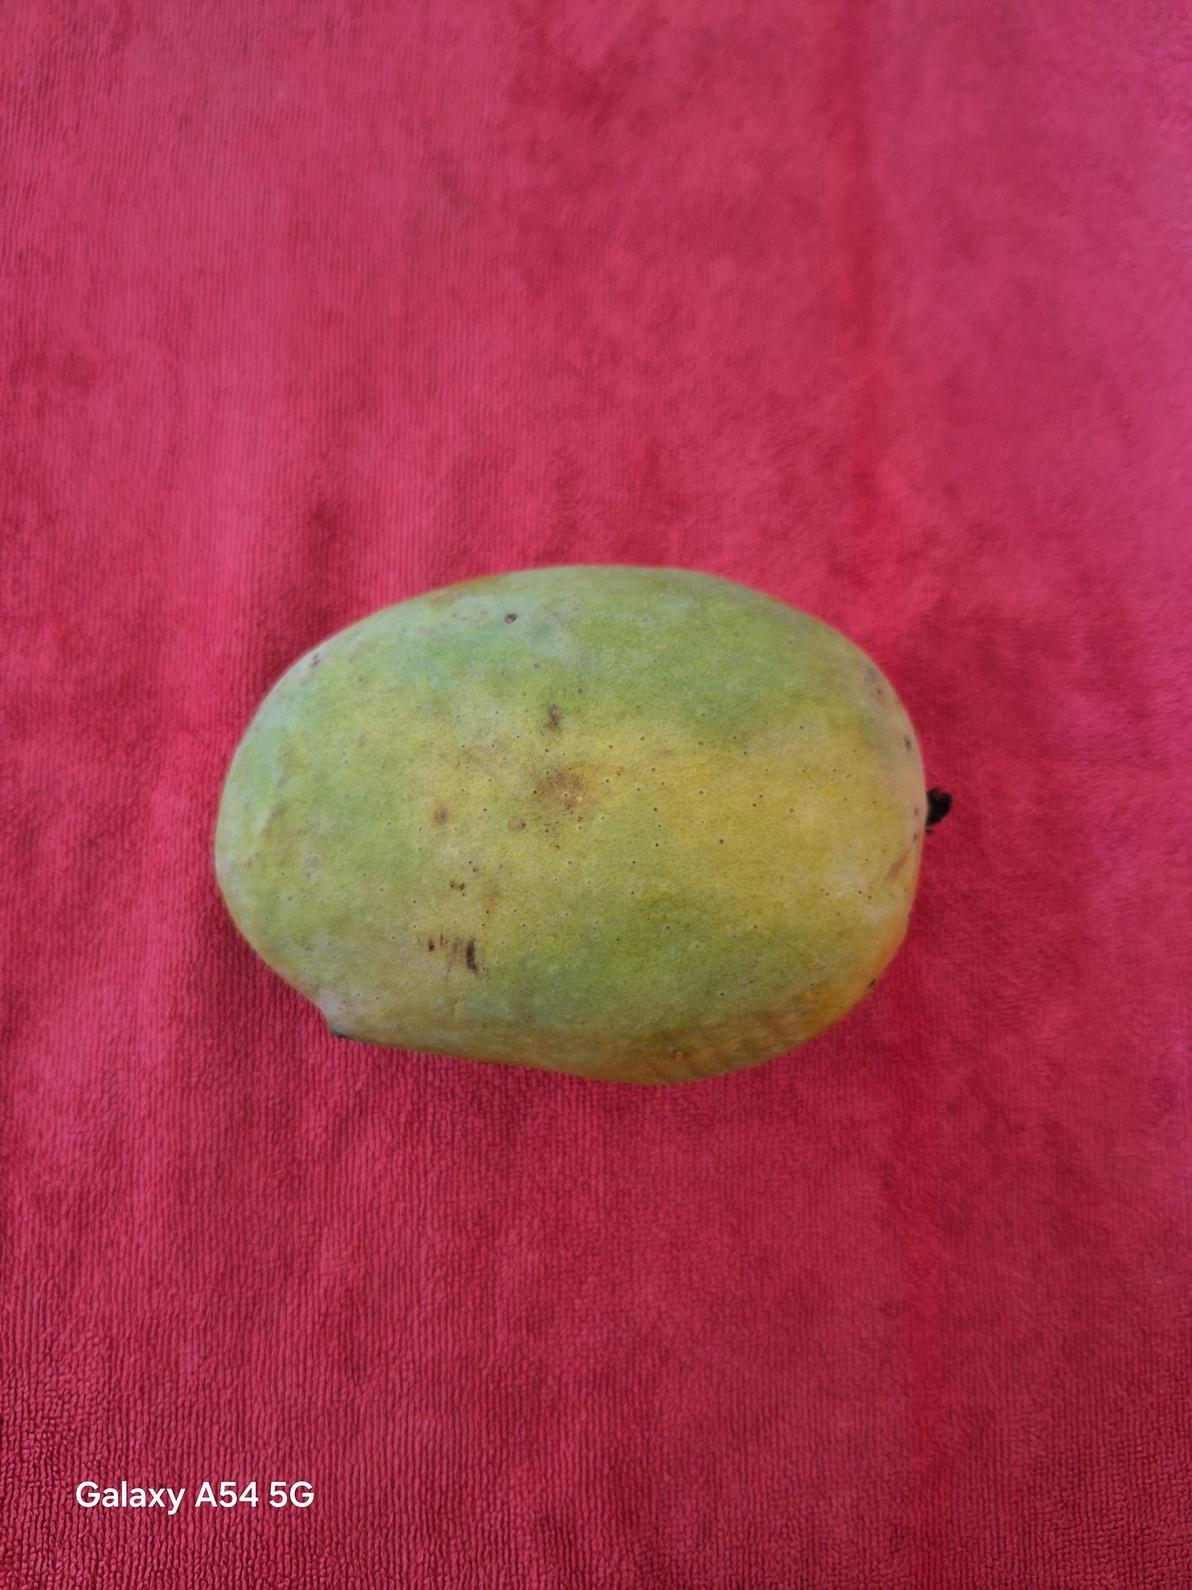mango: (212, 560, 947, 1085)
